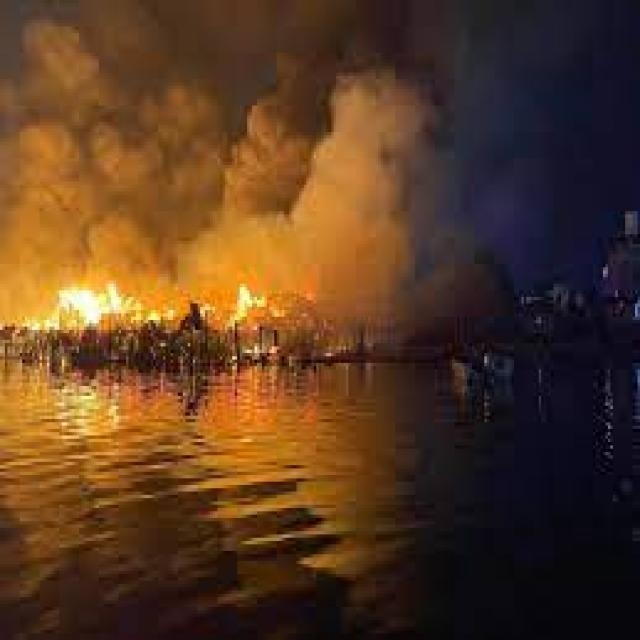Fire: (54, 274, 130, 333)
Smoke: (0, 0, 465, 288)
